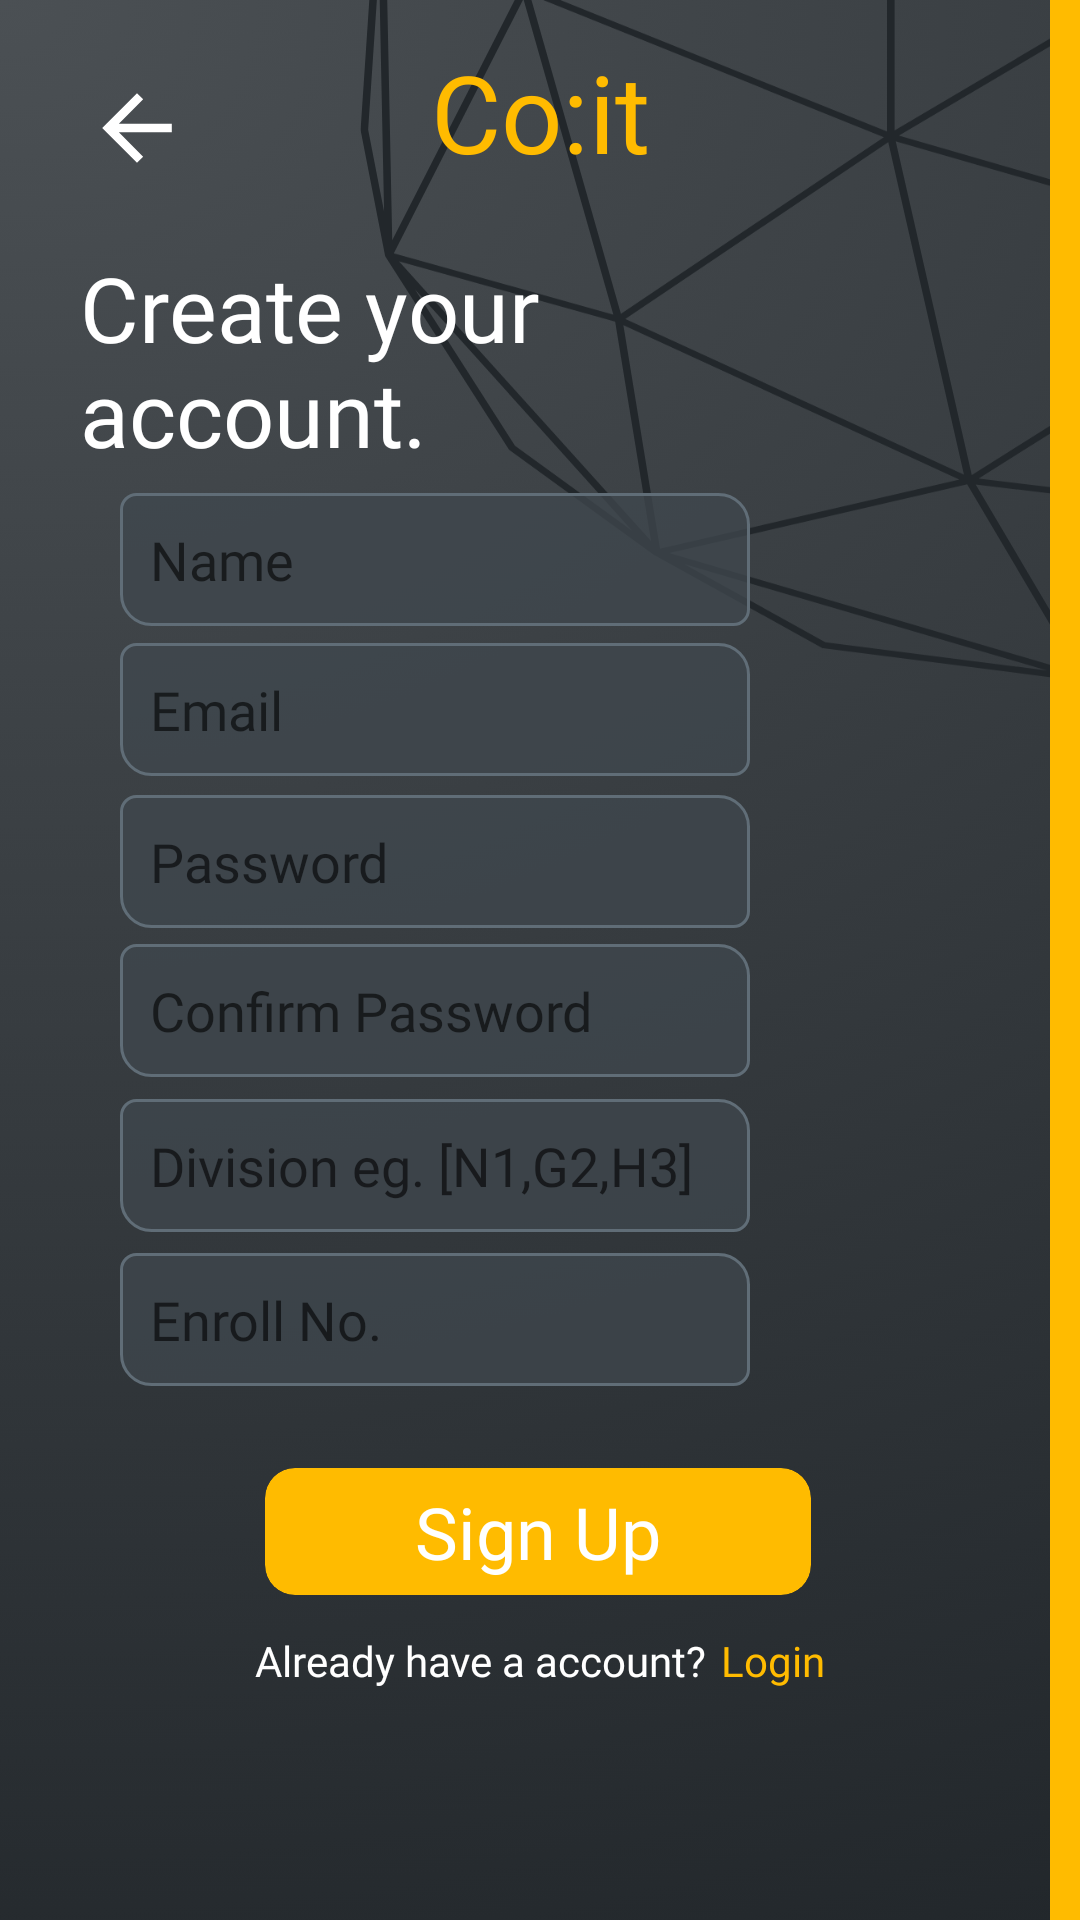

Screen size 1080px x 1920px. Icon name, then its box in pixels as {"left": x1, "top": y1, "right": x2, "bottom": y2}:
lefta: {"left": 102, "top": 93, "right": 172, "bottom": 163}
